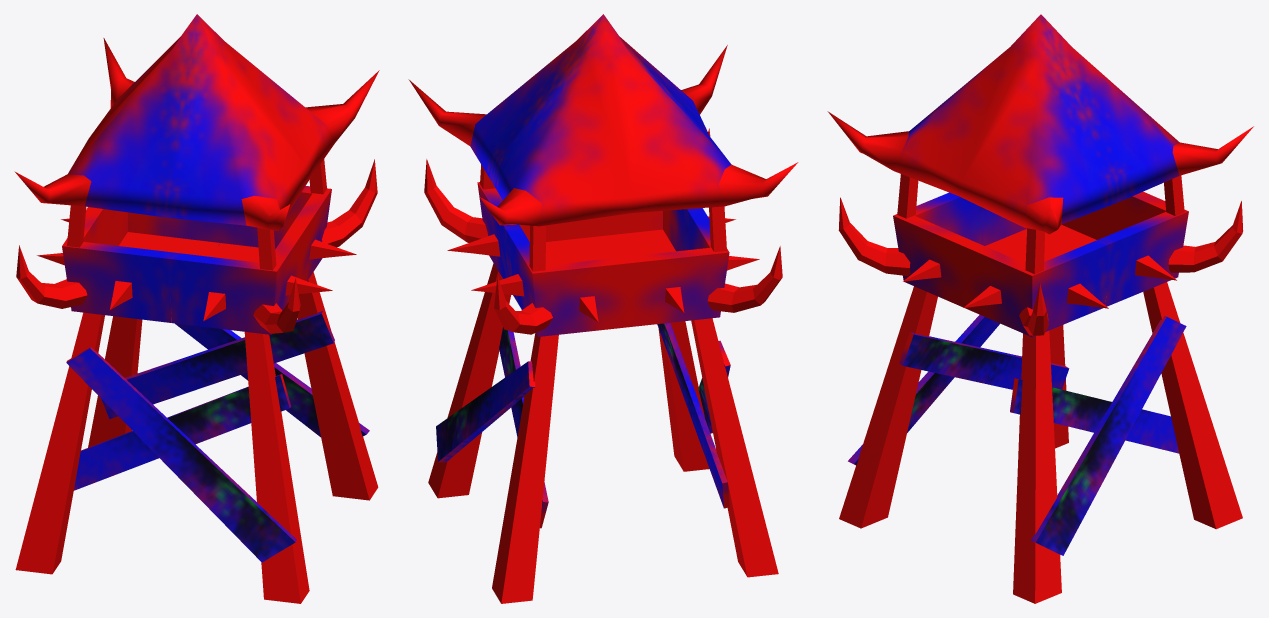
File: Pingyuan_jianzua1.FBX
3 renders of one model, left to right at view 1: azimuth 30°, elevation 25°; view 2: azimuth 150°, elevation 25°; view 3: azimuth 270°, elevation 25°, orthographic. The views are drawn at different scales.
Visible parts, largest first — view 1: Object017; view 2: Object017; view 3: Object017.
Boxes of the visible parts, x1,y1,x2,y2 form: Object017: (14,14,379,603); Object017: (408,14,798,603); Object017: (827,14,1253,603).
Bounding box in the file's own units: 198 × 258 × 198.
